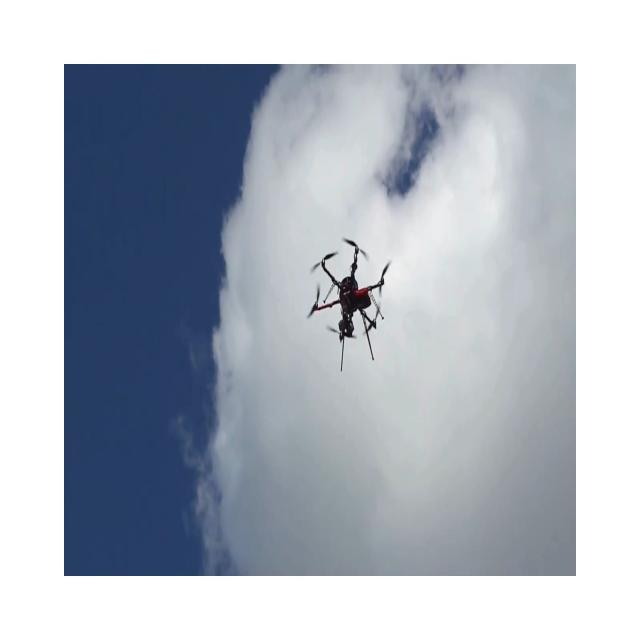drone: (306, 236, 392, 371)
